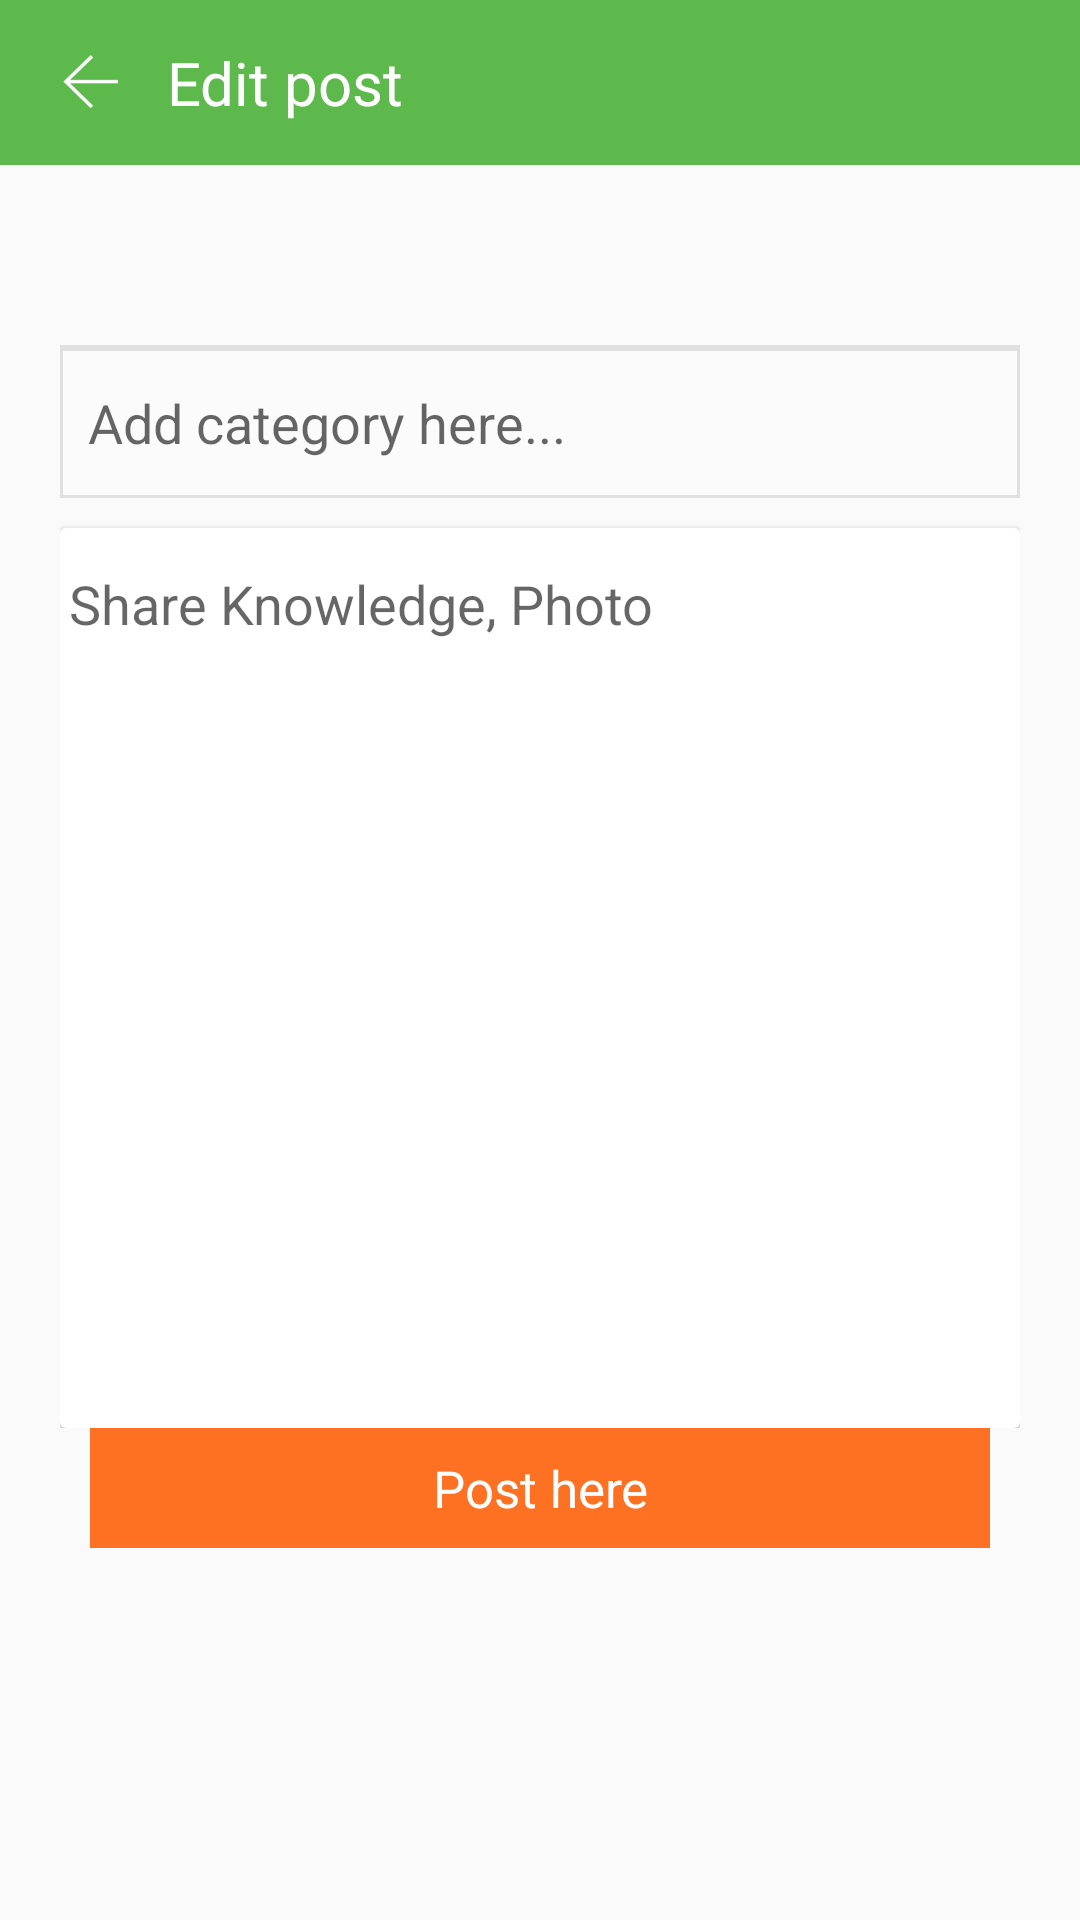

Screen size 1080px x 1920px. Icon name, then its box in pixels as (x1, y1, x2, y2):
back: (63, 55, 118, 108)
